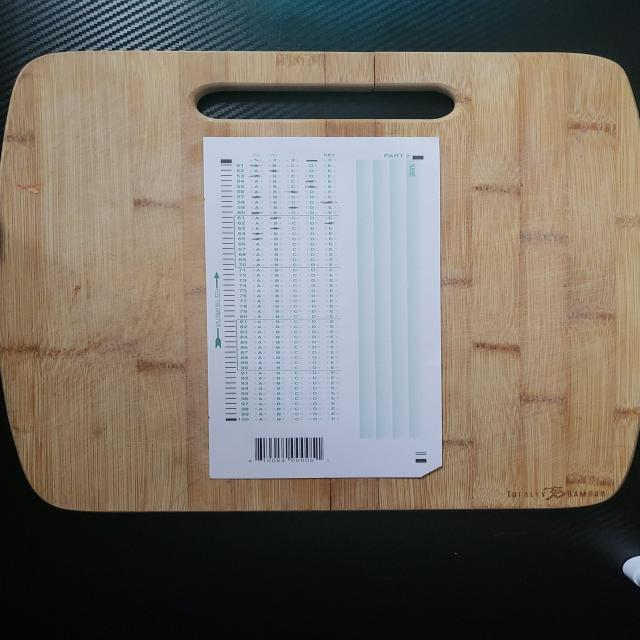scantron_back: (205, 137, 443, 479)
